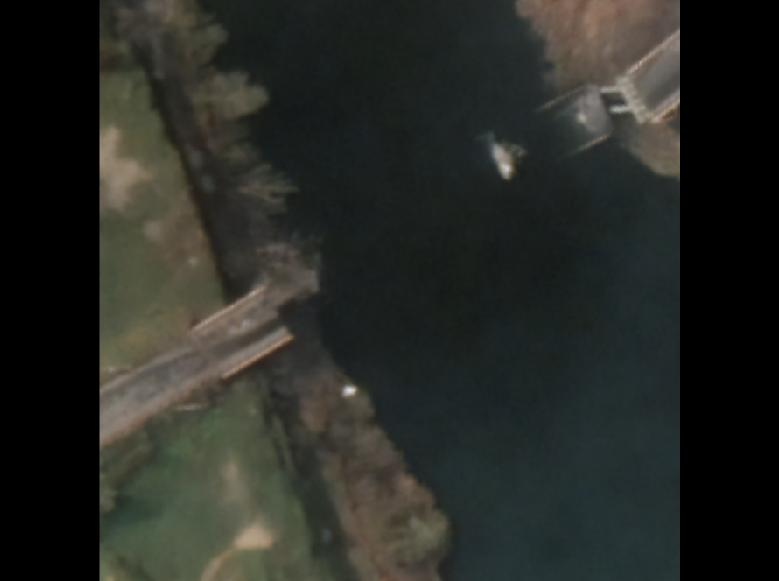demaged-bridge-high: (228, 35, 673, 403)
